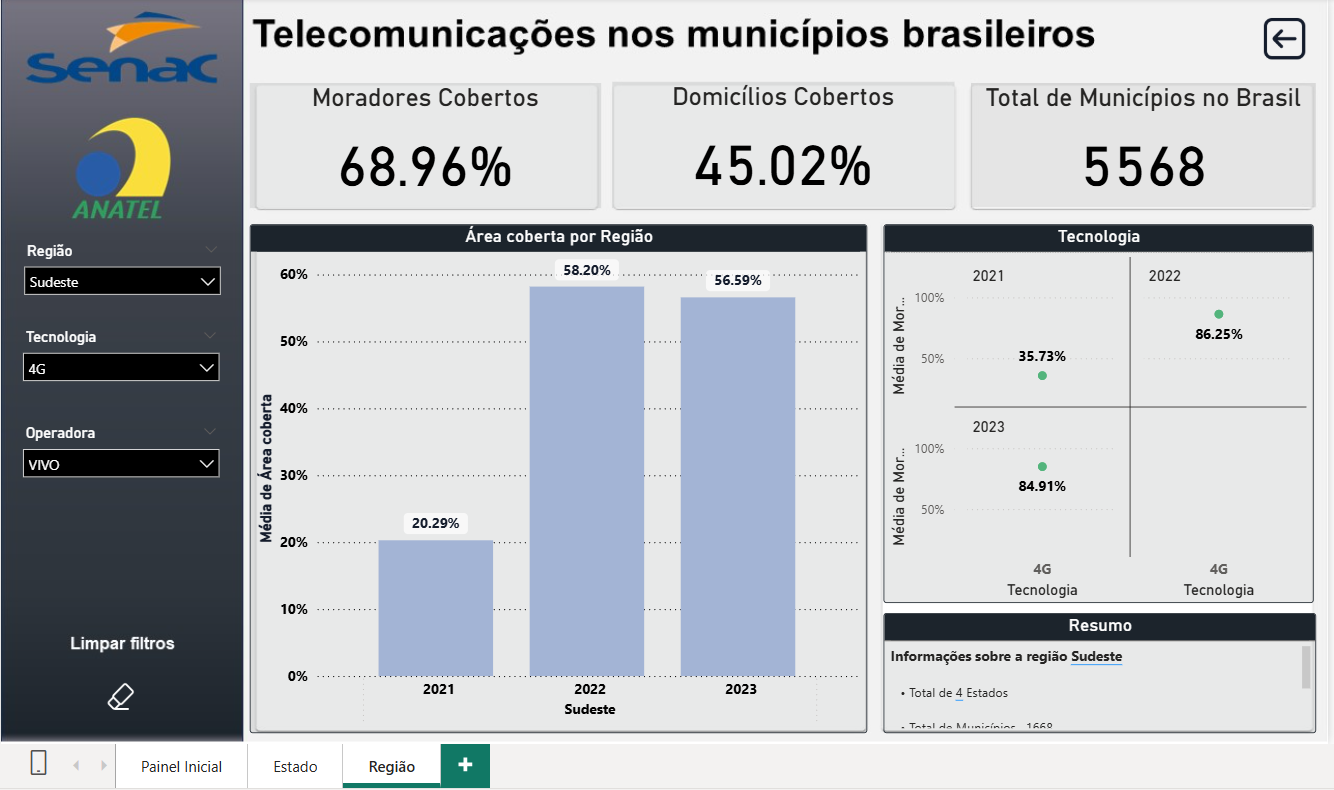

The page's visual inventory and layout, read from the dashboard file:
{"tool":"powerbi","page":{"name":"Região","canvas":[1280,720],"ordinal":2},"visuals":[{"type":"slicer","fields":{"Values":["Região.Região"]},"box":[11.7,230,210,91.7],"z":0},{"type":"card","title":"Moradores Cobertos","fields":{"Values":["Avg(Fato.Moradores cobertos)"]},"box":[240,82,338.9,120.6],"z":1000},{"type":"card","title":"Domicílios Cobertos","fields":{"Values":["Avg(Fato.% Área coberta)"]},"box":[590,81.2,330,121.2],"z":2000},{"type":"card","title":"Total de Municípios no Brasil","fields":{"Values":["Median(Fato.TotalMunicipios)"]},"box":[936.2,82.5,332.5,120],"z":3000},{"type":"lineStackedColumnComboChart","title":"Área coberta por Região","fields":{"Category":["Região.Região","Calendario.Date.Variation.Hierarquia de datas.Ano"],"Y":["Avg(Fato.% Área coberta)"]},"box":[240,218.3,595.8,490.9],"z":4000},{"type":"image","box":[31.7,655,168.3,38.3],"z":5000},{"type":"image","box":[1210,15,58.3,50],"z":6000},{"type":"slicer","fields":{"Values":["Tecnologia.Tecnologia"]},"box":[11.2,313.8,210,92.5],"z":7000},{"type":"textbox","title":"Resumo","box":[851.5,593.4,417.3,115.8],"z":8000},{"type":"areaChart","title":"Tecnologia","fields":{"Y":["Avg(Fato.Moradores cobertos)"],"Category":["Tecnologia.Tecnologia"],"Rows":["Calendario.Date.Variation.Hierarquia de datas.Ano"]},"box":[851.5,218.3,414.9,365.4],"z":9000},{"type":"slicer","fields":{"Values":["Operadora.Operadora"]},"box":[11.2,406.2,210,92.5],"z":10000}]}

Visuals, with their boxes on the page's 1280x720 design canvas (x1, y1, x2, y2). These are canvas units, not pixel positions in the 1334x790 screenshot, which may show the page scaled, cropped or inside an application window:
slicer - Região.Região: [x1=12, y1=230, x2=222, y2=322]
"Moradores Cobertos" card: [x1=240, y1=82, x2=579, y2=203]
"Domicílios Cobertos" card: [x1=590, y1=81, x2=920, y2=202]
"Total de Municípios no Brasil" card: [x1=936, y1=82, x2=1269, y2=202]
"Área coberta por Região" lineStackedColumnComboChart: [x1=240, y1=218, x2=836, y2=709]
image: [x1=32, y1=655, x2=200, y2=693]
image: [x1=1210, y1=15, x2=1268, y2=65]
slicer - Tecnologia.Tecnologia: [x1=11, y1=314, x2=221, y2=406]
"Resumo" textbox: [x1=852, y1=593, x2=1269, y2=709]
"Tecnologia" areaChart: [x1=852, y1=218, x2=1266, y2=584]
slicer - Operadora.Operadora: [x1=11, y1=406, x2=221, y2=499]
